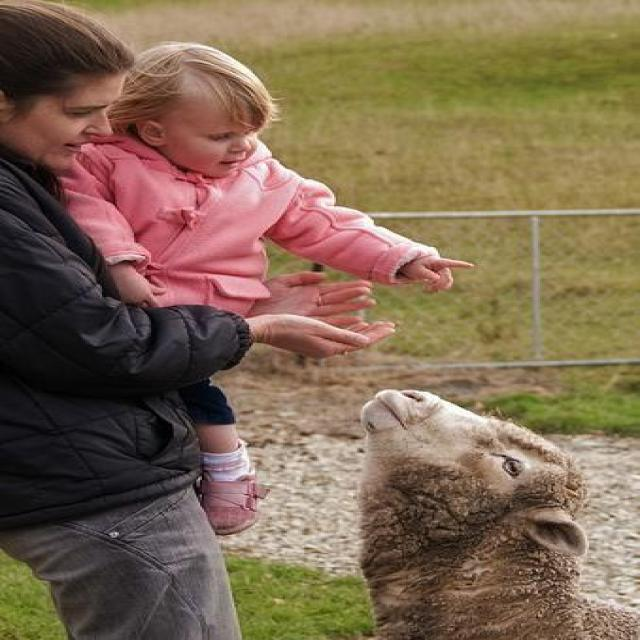Sheep: (358, 396, 630, 631)
